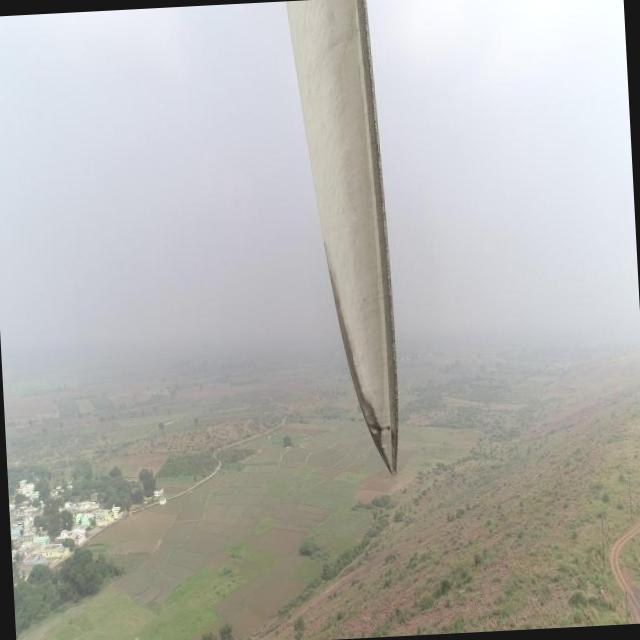Dirt: (288, 0, 400, 475)
Pin Hole: (368, 422, 395, 436)
